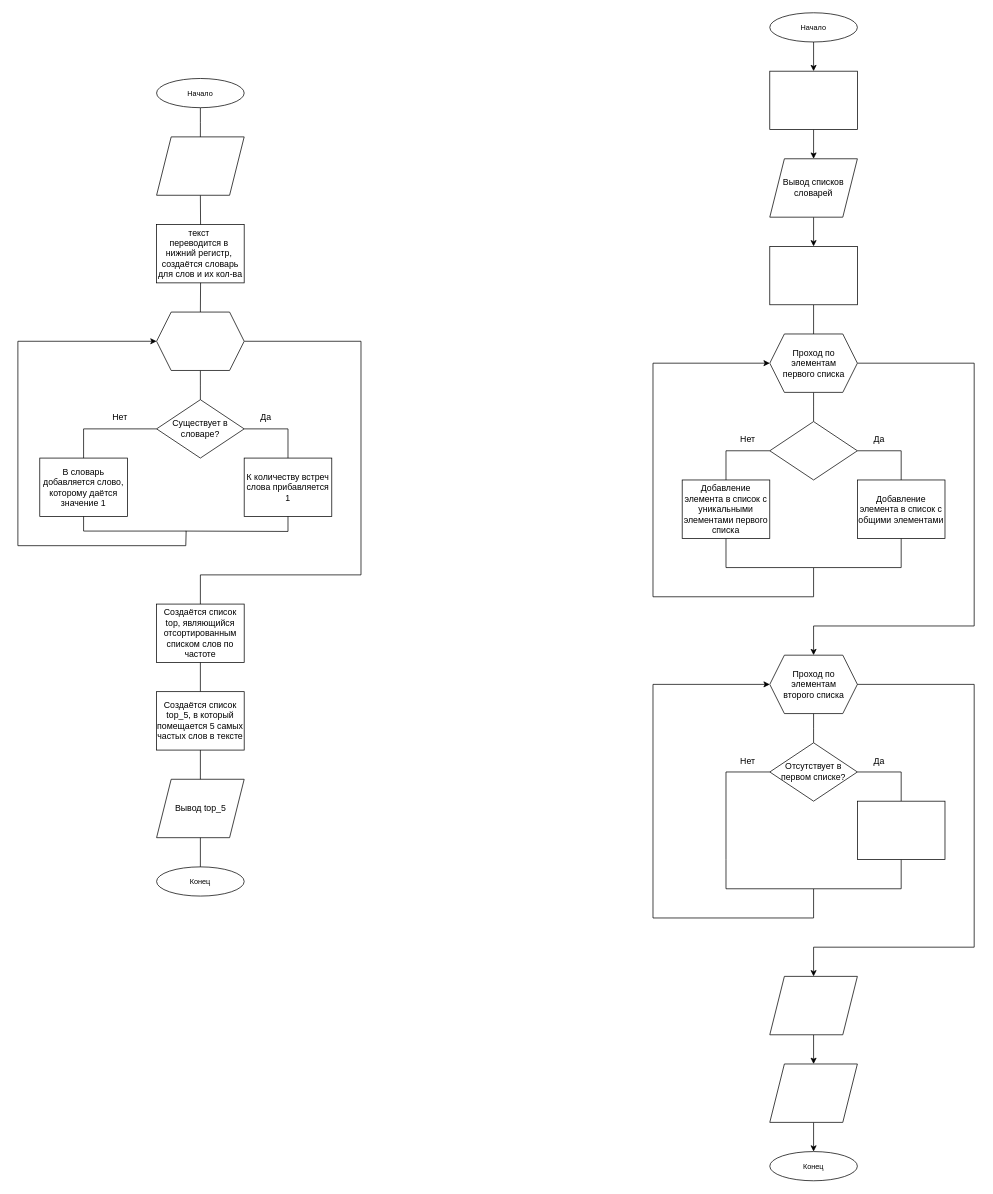
The diagram is 993 pixels wide and 1194 high, and some of its shapes have lost their labels. The centre of each missing label's shape, as x and y in pixels:
Вывод общих элементов: the point at 813,1005
Вывод уникальных элементов для каждого списка: the point at 813,1092
Даны два списка словарей: the point at 813,100
Для каждого слова в тексте: the point at 200,340
Добавление элемента в список с уникальными элементами второго списка: the point at 901,830
Есть во втором списке?: the point at 813,450
Пользователь вводит текст: the point at 200,165
Создание списков для общих и уникальных элементов: the point at 813,275
